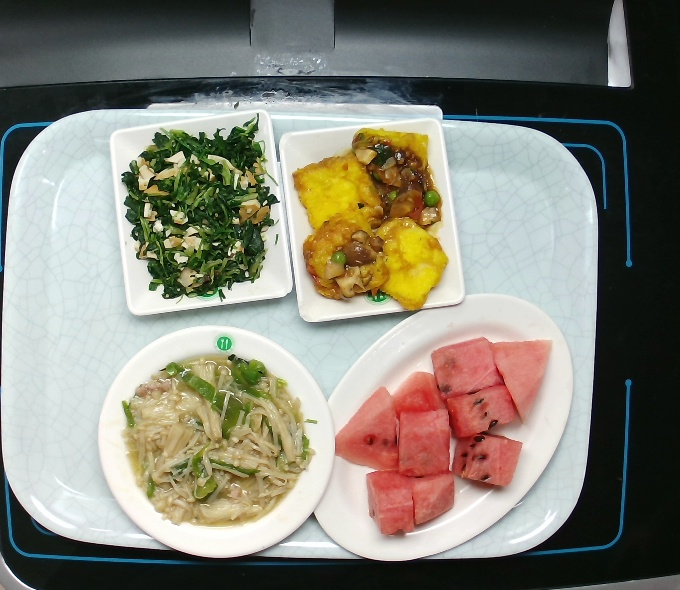wcq-CuiPiDouFu: (291, 124, 451, 318)
wcq-JinZhenGu: (116, 349, 321, 531)
wcq-MaLanTouChaoDouGan: (117, 111, 282, 306)
wcq-XiGua: (331, 332, 557, 537)
